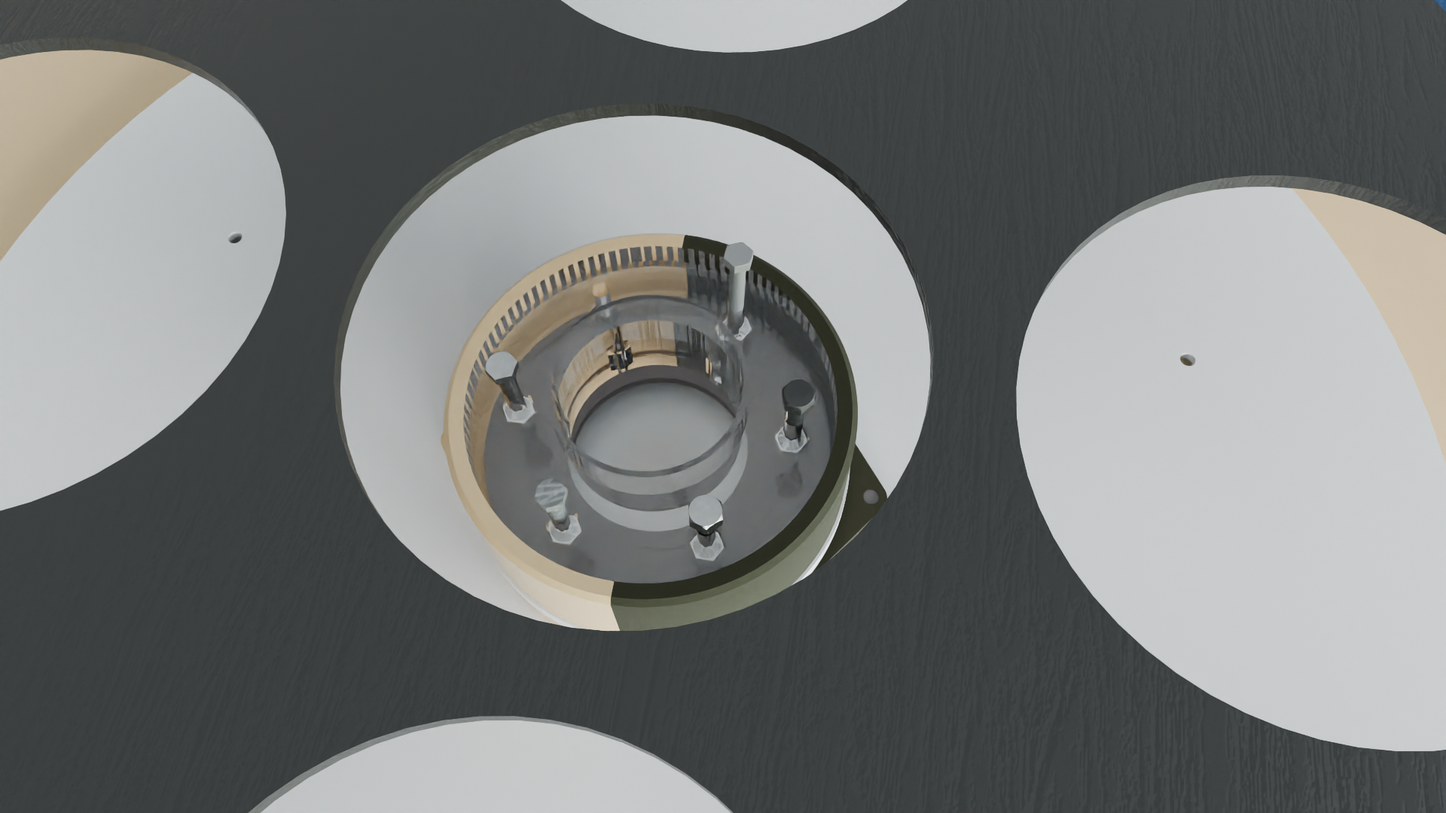bolt: (688, 494, 723, 530), (534, 477, 566, 509), (782, 379, 815, 410), (484, 351, 517, 380), (724, 242, 754, 268)
